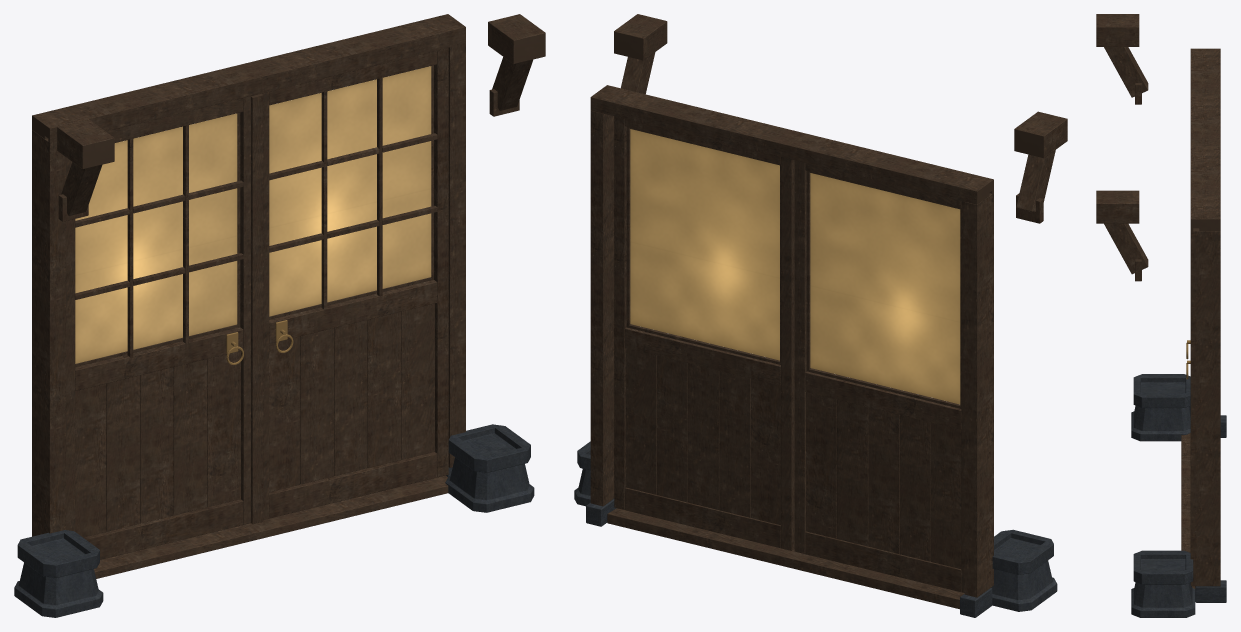
Rendered from entrance_module.glb.
3 renders of one model, left to right at view 1: azimuth 30°, elevation 25°; view 2: azimuth 150°, elevation 25°; view 3: azimuth 270°, elevation 25°, orthographic. The views are drawn at different scales.
Parts seen in each view (by area): view 1: NativeEntrance_Geometry; view 2: NativeEntrance_Geometry; view 3: NativeEntrance_Geometry.
Boxes of the visible parts, <box> form: NativeEntrance_Geometry: <box>14,14,545,617</box>; NativeEntrance_Geometry: <box>574,14,1067,617</box>; NativeEntrance_Geometry: <box>1096,14,1226,617</box>.
Bounding box in the file's own units: 3.2 × 3.02 × 0.875.
Materials: 5 (4 with a texture image).
